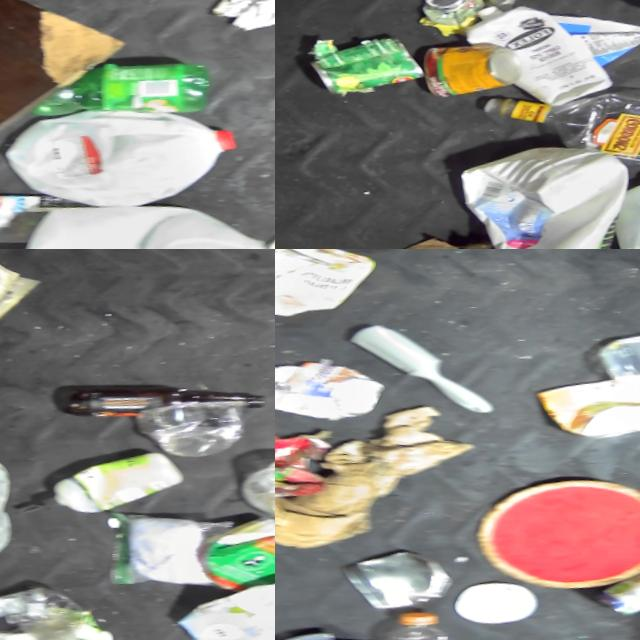can: (311, 23, 436, 100), (422, 28, 533, 100), (351, 537, 463, 608), (593, 535, 640, 612), (420, 0, 494, 32)
milk_jug: (0, 77, 264, 218), (455, 121, 640, 249), (21, 175, 275, 249), (0, 424, 28, 574)
plastic_bottle: (0, 573, 106, 640), (388, 600, 473, 640)
